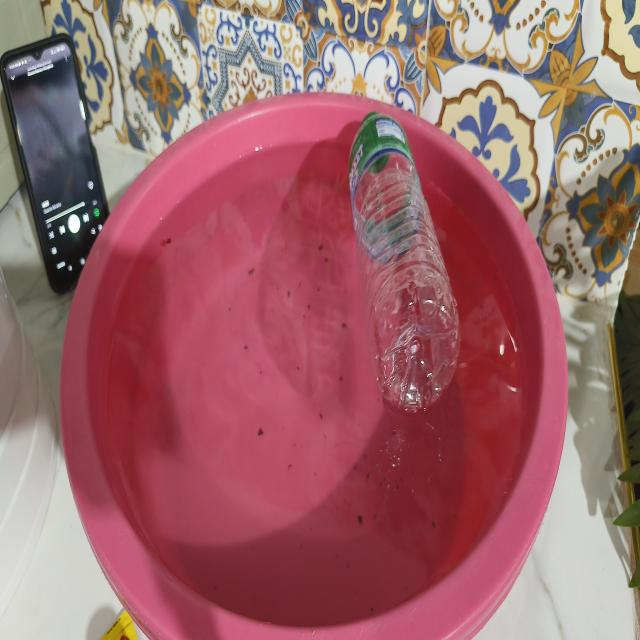Plastic Bottle: (327, 80, 481, 444)
